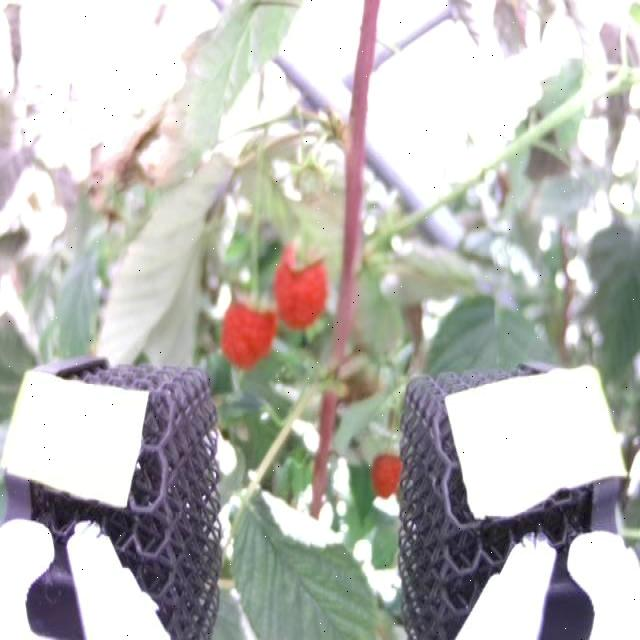Riped berries: (270, 240, 333, 332), (220, 292, 278, 374), (372, 444, 406, 497)
